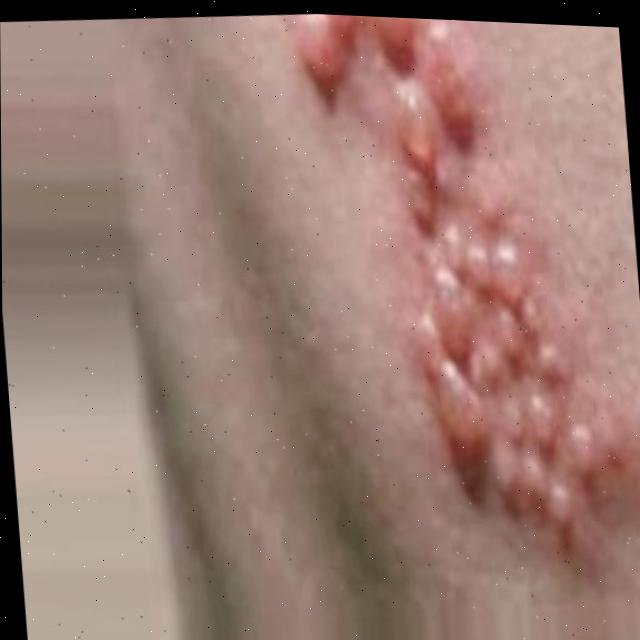Shingles: (296, 13, 640, 563)
